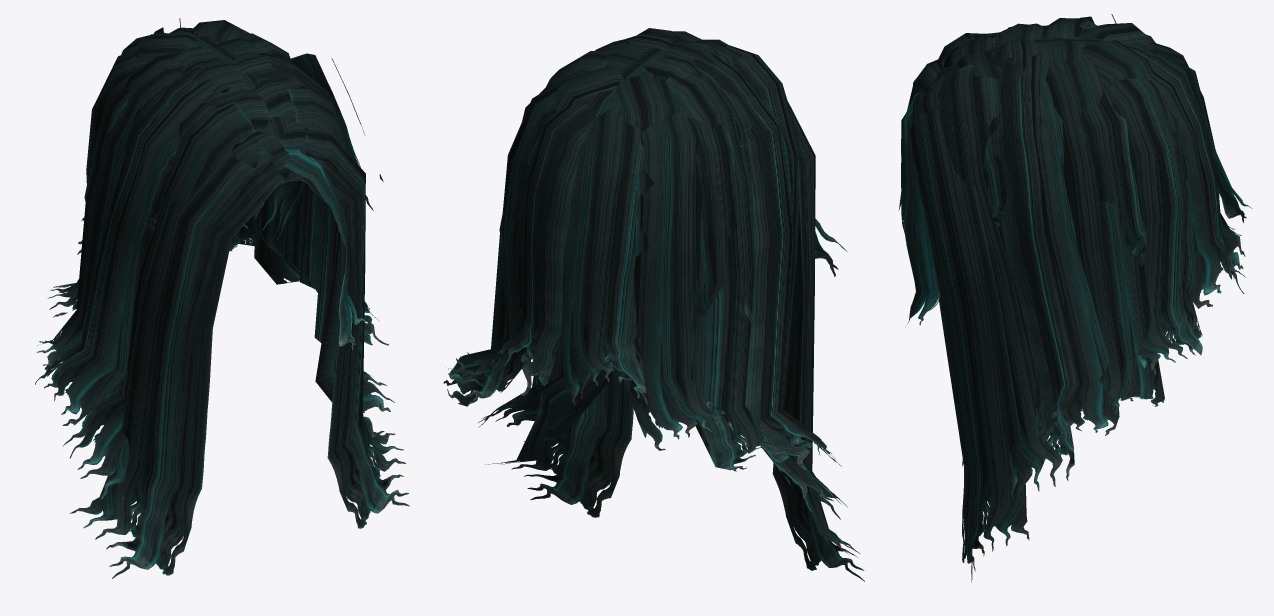
The model's file is mh_cortu_shaggy_green_hair.glb.
3 renders of one model, left to right at view 1: azimuth 30°, elevation 25°; view 2: azimuth 150°, elevation 25°; view 3: azimuth 270°, elevation 25°, orthographic. The views are drawn at different scales.
Parts seen in each view (by area): view 1: mh_cortu_shaggy_green_hair; view 2: mh_cortu_shaggy_green_hair; view 3: mh_cortu_shaggy_green_hair.
Part boxes in pixels (x1,y1,x2,y2): mh_cortu_shaggy_green_hair: (35,18,409,578); mh_cortu_shaggy_green_hair: (443,28,864,581); mh_cortu_shaggy_green_hair: (898,14,1252,582).
Bounding box in the file's own units: 0.2856 × 0.3897 × 0.2597.
1 material, 1 textured.
